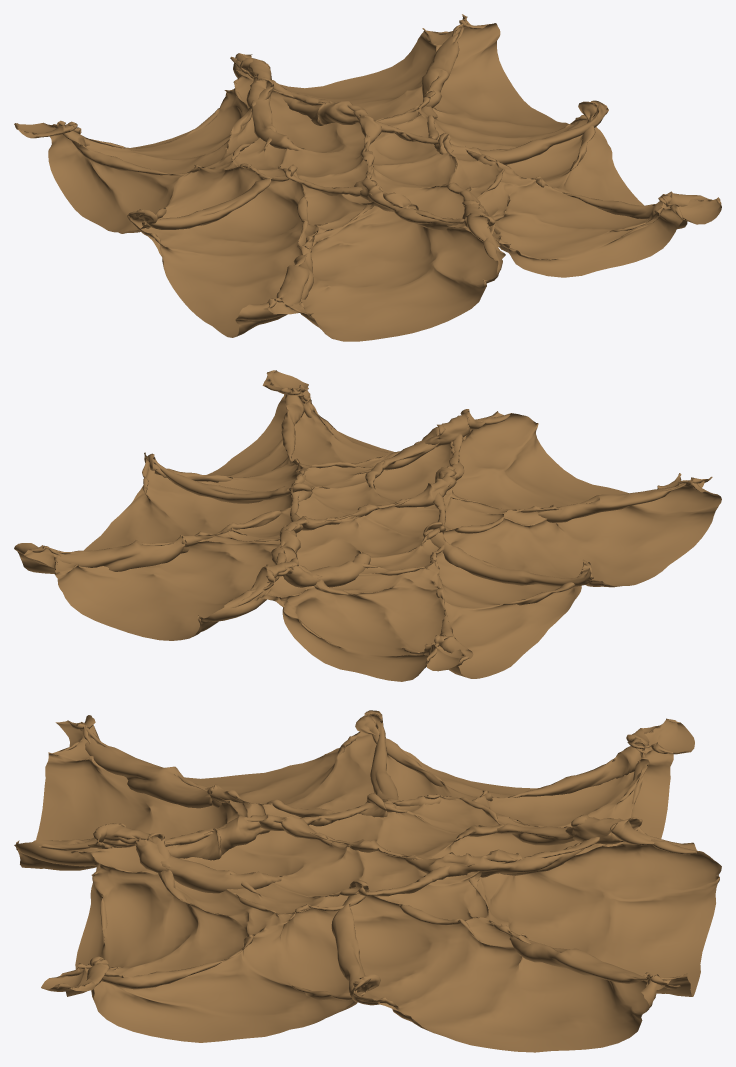
The model's file is mud.fbx.
3 views of the same model, one above another, from view 1: azimuth 30°, elevation 25°; view 2: azimuth 150°, elevation 25°; view 3: azimuth 270°, elevation 25° (orthographic). The views are drawn at different scales.
Visible parts, largest first — view 1: 円柱; view 2: 円柱; view 3: 円柱.
Part boxes in pixels (x1=…): 円柱: x1=14, y1=14, x2=721, y2=341; 円柱: x1=14, y1=370, x2=721, y2=681; 円柱: x1=14, y1=710, x2=721, y2=1052.
Size of the model in its own units: 227 by 34.06 by 233.
